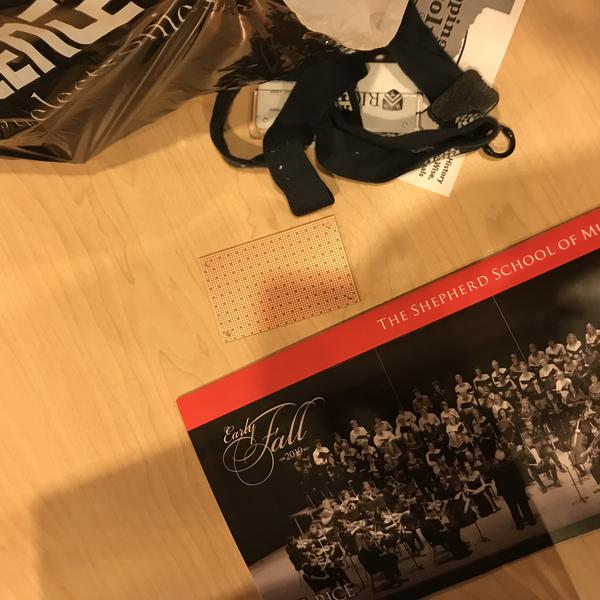board: (193, 212, 367, 345)
